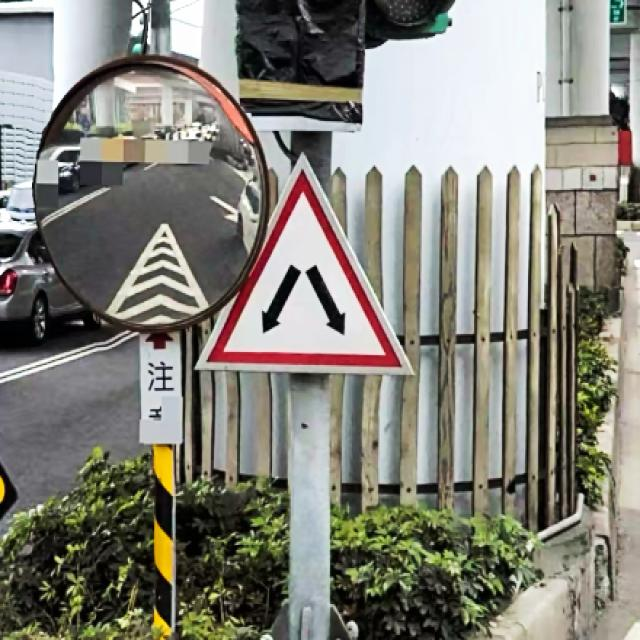diverge: (208, 157, 400, 368)
